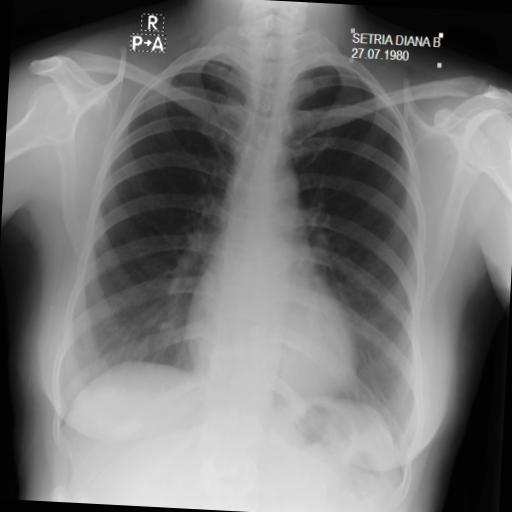normal: (44, 14, 446, 483)
